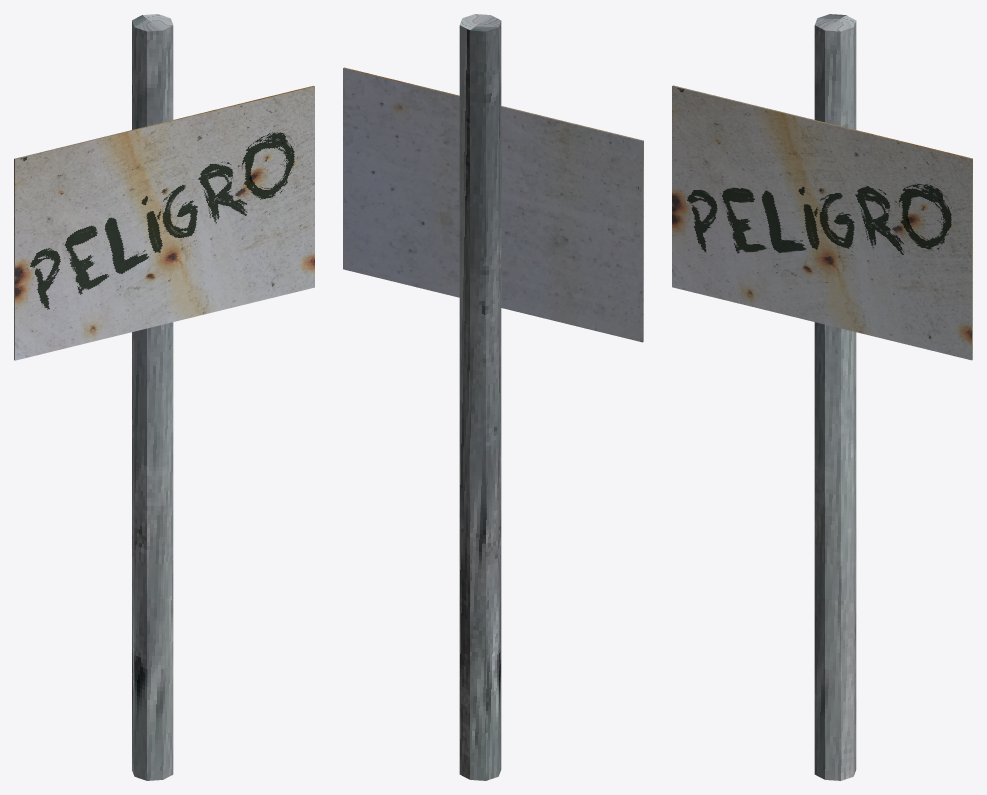
Rendered from NoPasar02.glb.
The picture shows the model from 3 angles, left to right: view 1: azimuth 30°, elevation 25°; view 2: azimuth 150°, elevation 25°; view 3: azimuth 330°, elevation 25°; orthographic projection.
Visible parts, largest first — view 1: Cube.048, Cube.049; view 2: Cube.048, Cube.049; view 3: Cube.048, Cube.049.
Boxes of the visible parts, x1,y1,x2,y2 form: Cube.048: [14, 85, 314, 360]; Cube.049: [132, 14, 173, 780]; Cube.048: [343, 67, 643, 342]; Cube.049: [459, 14, 501, 780]; Cube.048: [672, 85, 972, 360]; Cube.049: [814, 14, 856, 780].
Bounding box in the file's own units: 0.1858 × 0.4439 × 0.0252.
Materials: 2 (2 with a texture image).
